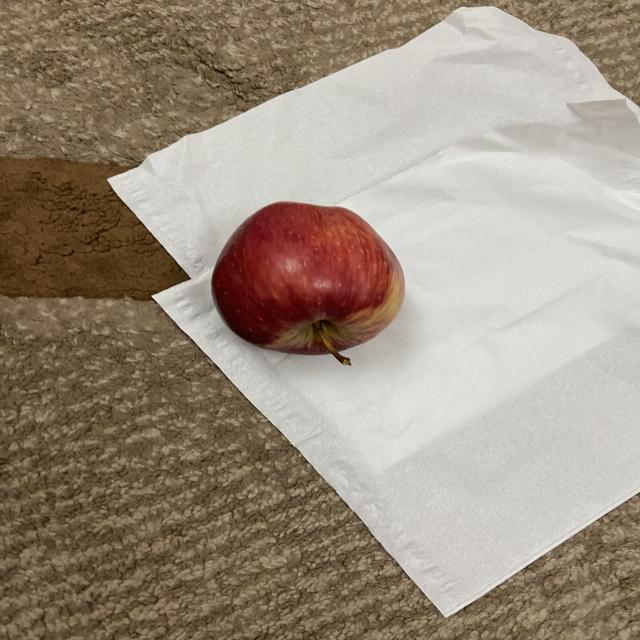apple: (210, 194, 409, 368)
